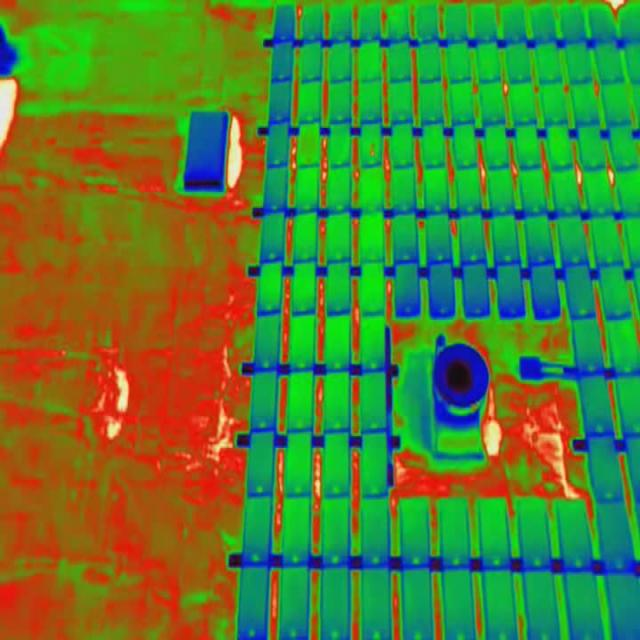Orange-Spots: (369, 148, 376, 160)
